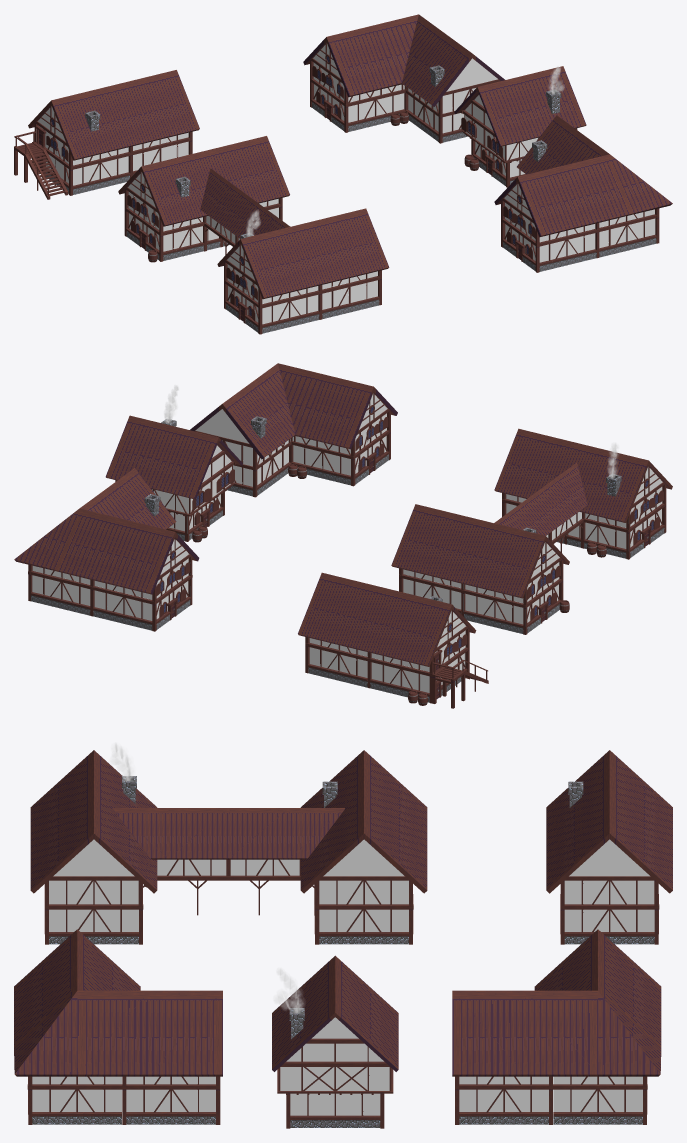
Rendered from medieval_house_pack_pixel_art.glb.
3 renders of one model, top to bottom at view 1: azimuth 30°, elevation 25°; view 2: azimuth 150°, elevation 25°; view 3: azimuth 270°, elevation 25°, orthographic. The views are drawn at different scales.
Parts seen in each view (by area): view 1: h3, h5, h2, h4, h1, Smoke; view 2: h3, h2, h5, h4, h1, Smoke; view 3: h3, h2, h5, h4, h1, Smoke.
Boxes of the visible parts, x1,y1,x2,y2 form: h3: (118, 136, 389, 334); h5: (494, 115, 672, 272); h2: (303, 14, 504, 143); h4: (14, 70, 199, 199); h1: (454, 66, 586, 187); Smoke: (246, 66, 564, 236); h3: (391, 428, 672, 634); h2: (14, 468, 199, 631); h5: (190, 363, 397, 497); h4: (298, 572, 488, 708); h1: (105, 415, 242, 542); Smoke: (164, 385, 618, 478); h3: (30, 750, 427, 944); h2: (452, 929, 661, 1124); h5: (14, 929, 222, 1124); h4: (546, 750, 672, 944); h1: (272, 955, 398, 1128); Smoke: (110, 743, 304, 1013).
Size of the model in its own units: 31.71 by 7.96 by 30.86.
2 materials, 2 textured.
